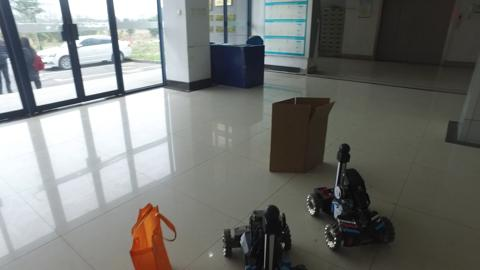bag: (134, 199, 166, 268)
box: (270, 89, 323, 174)
chariot: (307, 141, 401, 252), (219, 200, 303, 269)
